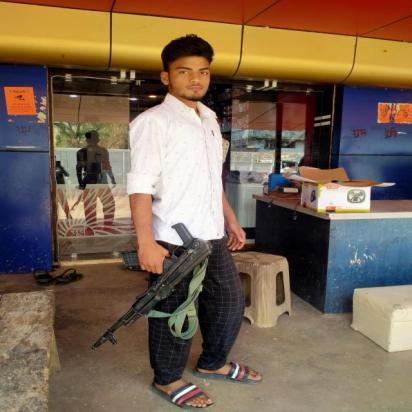Gun: (90, 221, 214, 352)
